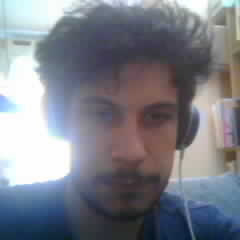without_mask: (69, 56, 183, 222)
